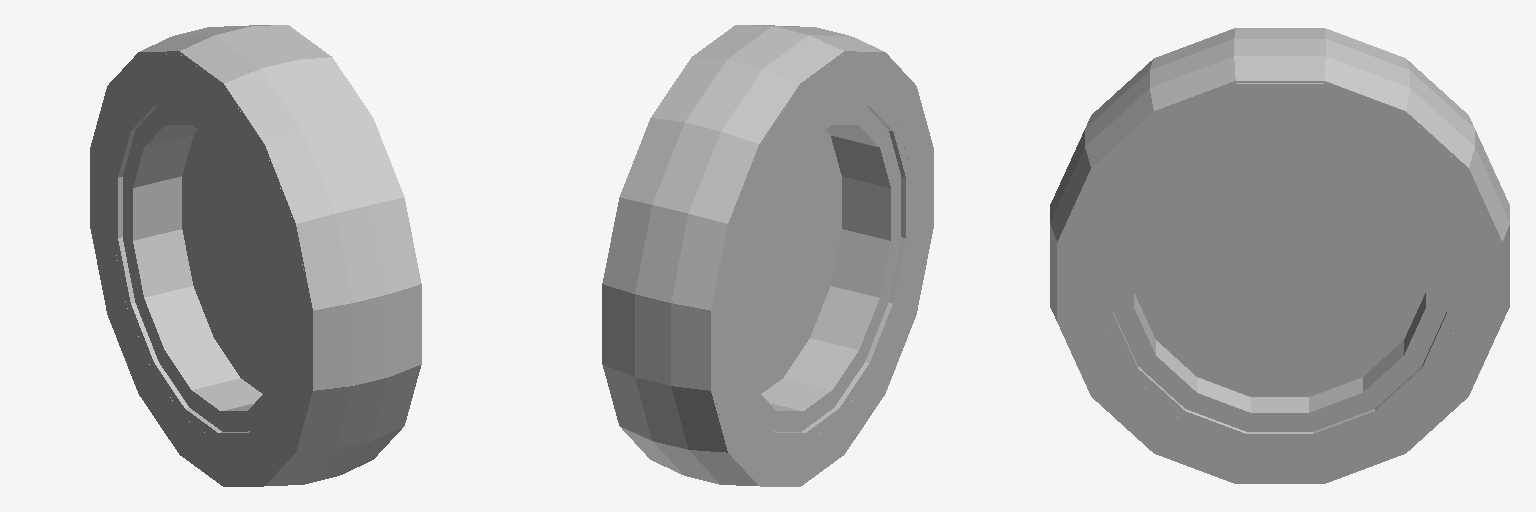
Rendered from smalltirerace.obj.
3 views of the same model, side by side, from view 1: azimuth 30°, elevation 25°; view 2: azimuth 150°, elevation 25°; view 3: azimuth 270°, elevation 25° (orthographic).
Parts seen in each view (by area): view 1: tire, rim, wall; view 2: tire, rim, wall; view 3: rim, wall, tire.
Part boxes in pixels (left/top/right/bottom): tire: left=90, top=25, right=421, bottom=486; rim: left=123, top=105, right=284, bottom=431; wall: left=92, top=54, right=310, bottom=483; tire: left=602, top=25, right=933, bottom=486; rim: left=739, top=105, right=900, bottom=431; wall: left=713, top=54, right=931, bottom=483; rim: left=1113, top=131, right=1446, bottom=431; wall: left=1060, top=83, right=1499, bottom=481; tire: left=1050, top=28, right=1509, bottom=483.
Size of the model in its own units: 0.2046 by 0.7496 by 0.7496.